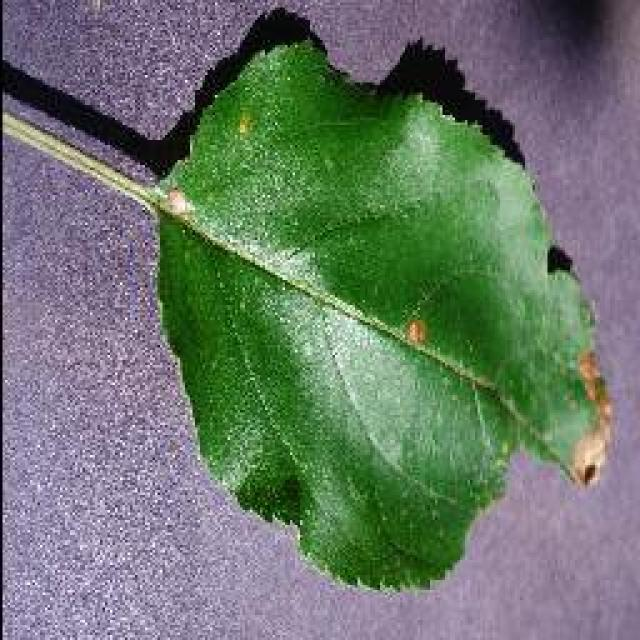Black_rot: (0, 7, 612, 594)
